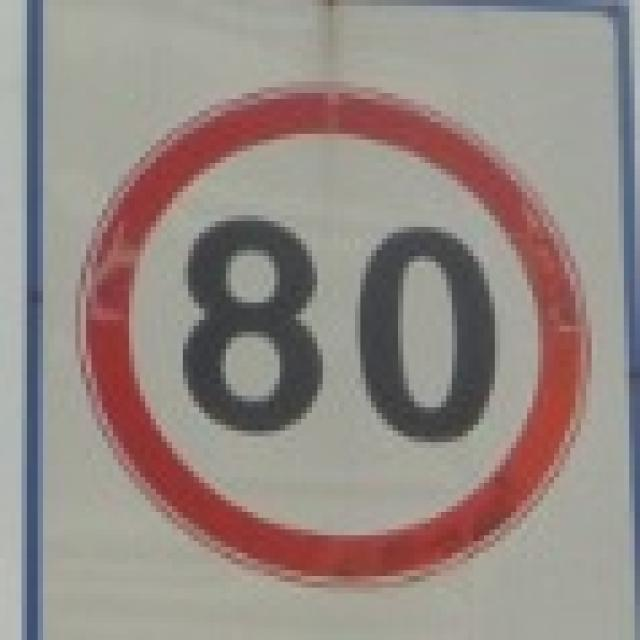Speed Limit -80-: (178, 210, 507, 442)
